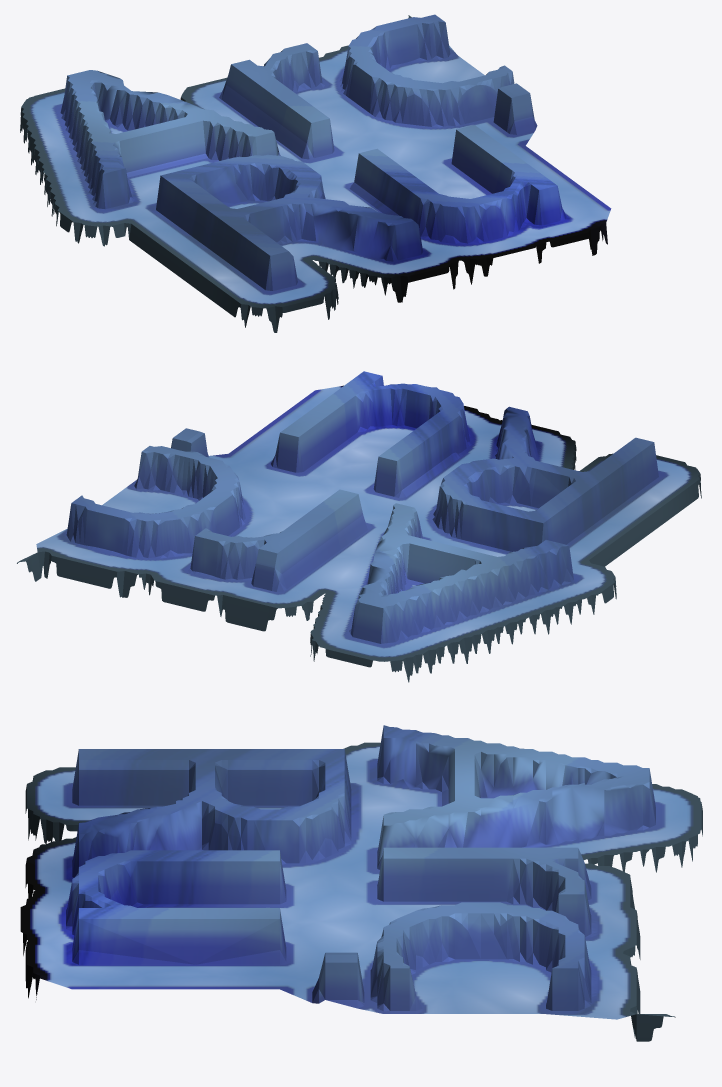
Rendered from TitlecardLeft.fbx.
The picture shows the model from 3 angles, top to bottom: view 1: azimuth 30°, elevation 25°; view 2: azimuth 150°, elevation 25°; view 3: azimuth 270°, elevation 25°; orthographic projection. The views are drawn at different scales.
Parts seen in each view (by area): view 1: TextLeft; view 2: TextLeft; view 3: TextLeft.
Part boxes in pixels (bbox=[...]): TextLeft: bbox=[20, 14, 611, 332]; TextLeft: bbox=[17, 371, 701, 682]; TextLeft: bbox=[20, 725, 702, 1041].
Size of the model in its own units: 109 by 13.37 by 108.
